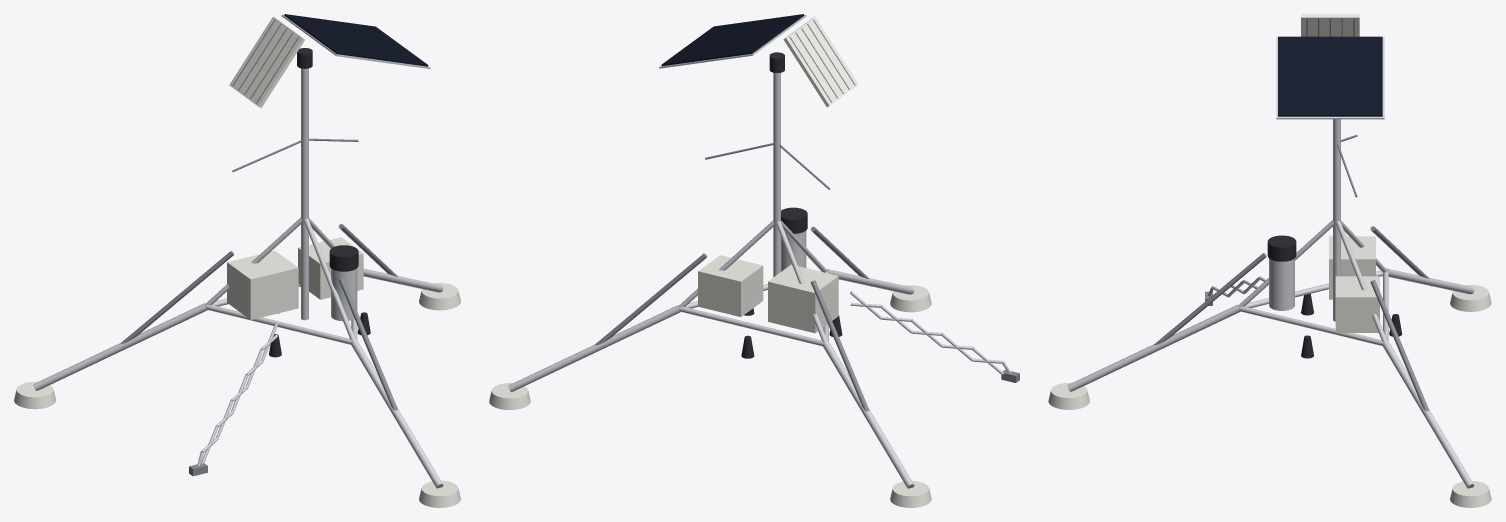
File: surveyor-3.glb
3 views of the same model, side by side, from view 1: azimuth 30°, elevation 25°; view 2: azimuth 150°, elevation 25°; view 3: azimuth 270°, elevation 25° (orthographic).
Parts seen in each view (by area): view 1: compartment_a, leg (×3), solar_cells, antenna_face, footpad (×3), frame_tube (×3), mast, shock_absorber (×2), compartment_b, camera_body, camera_hood, antenna_grid; view 2: compartment_a, leg (×3), compartment_b, solar_cells, antenna_face, footpad (×3), shock_absorber (×2), mast, frame_tube, antenna_grid, camera_body, camera_hood; view 3: solar_cells, leg (×3), footpad (×3), compartment_b, frame_tube (×3), shock_absorber (×2), compartment_a, mast, antenna_face, camera_body, solar_frame, camera_hood.
Part boxes in pixels (x1,y1,x2,y2): compartment_a: [227, 250, 298, 319]; leg (×3): [33, 268, 443, 488]; solar_cells: [284, 14, 428, 66]; antenna_face: [229, 16, 304, 108]; footpad (×3): [14, 283, 460, 507]; frame_tube (×3): [205, 217, 355, 344]; mast: [301, 68, 308, 320]; shock_absorber (×2): [121, 251, 397, 410]; compartment_b: [298, 237, 363, 299]; camera_body: [331, 268, 357, 321]; camera_hood: [329, 245, 358, 271]; antenna_grid: [232, 19, 298, 103]; compartment_a: [768, 264, 838, 333]; leg (×3): [508, 269, 914, 488]; compartment_b: [698, 255, 763, 316]; solar_cells: [661, 14, 804, 66]; antenna_face: [783, 16, 858, 107]; footpad (×3): [489, 285, 931, 507]; shock_absorber (×2): [595, 253, 869, 411]; mast: [773, 72, 780, 277]; frame_tube: [678, 307, 823, 346]; antenna_grid: [789, 19, 855, 102]; camera_body: [781, 231, 806, 271]; camera_hood: [781, 207, 807, 233]; solar_cells: [1278, 36, 1382, 116]; leg (×3): [1067, 268, 1474, 488]; footpad (×3): [1048, 284, 1491, 507]; compartment_b: [1335, 276, 1379, 332]; frame_tube (×3): [1237, 220, 1387, 345]; shock_absorber (×2): [1154, 253, 1429, 411]; compartment_a: [1329, 236, 1375, 299]; mast: [1333, 119, 1340, 321]; antenna_face: [1301, 14, 1359, 36]; camera_body: [1269, 258, 1294, 310]; solar_frame: [1276, 37, 1384, 119]; camera_hood: [1267, 235, 1296, 261].
Bounding box in the file's own units: 3.87 × 3.19 × 3.39.
